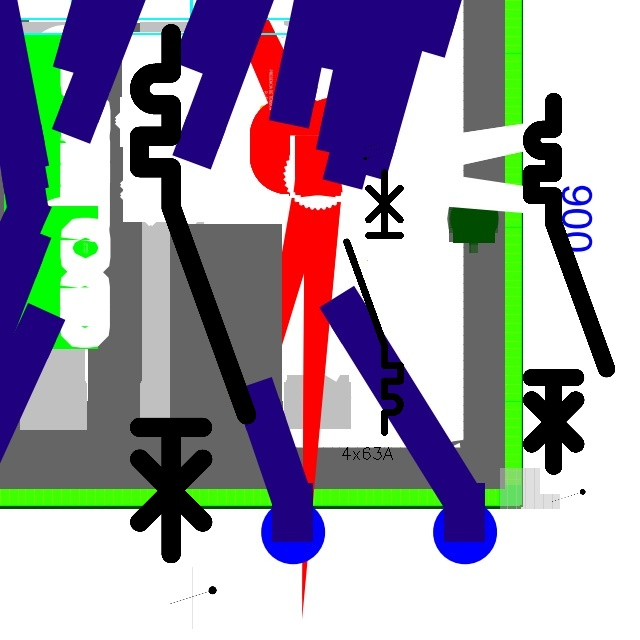interruptor_termomagnetico: (126, 20, 260, 567), (522, 92, 616, 476), (340, 165, 407, 438)
